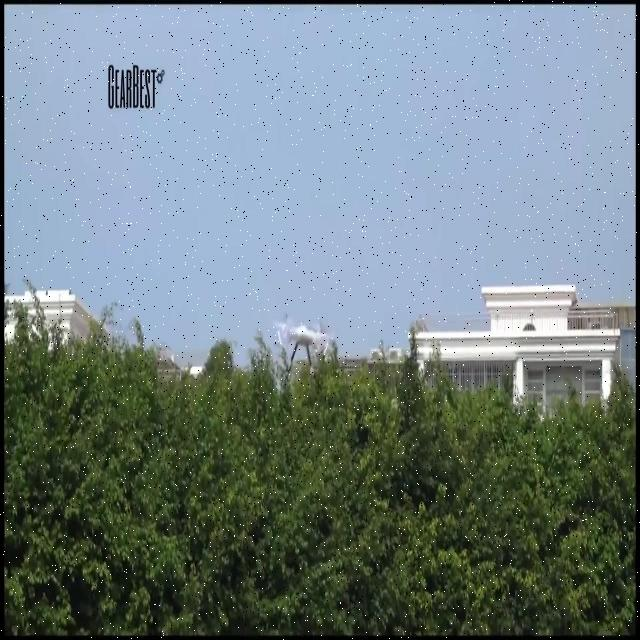UAV: (278, 312, 328, 377)
